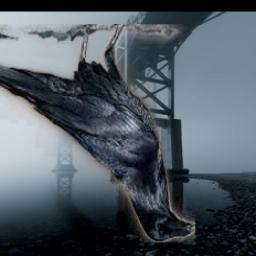Crow: (0, 25, 195, 243)
